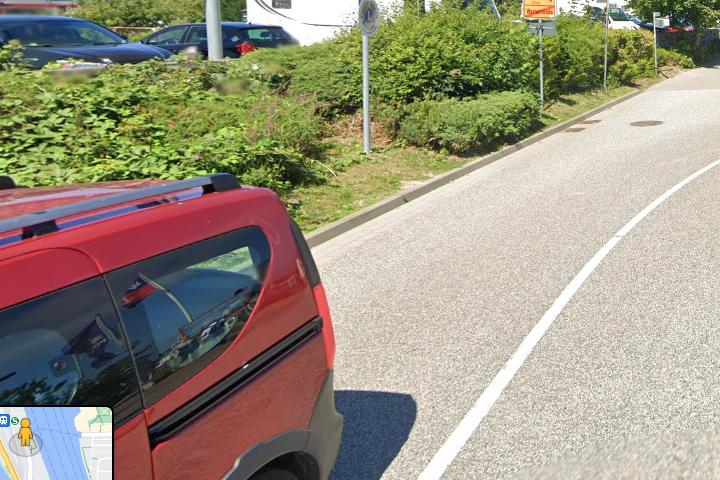google_maps: (1, 407, 114, 480)
